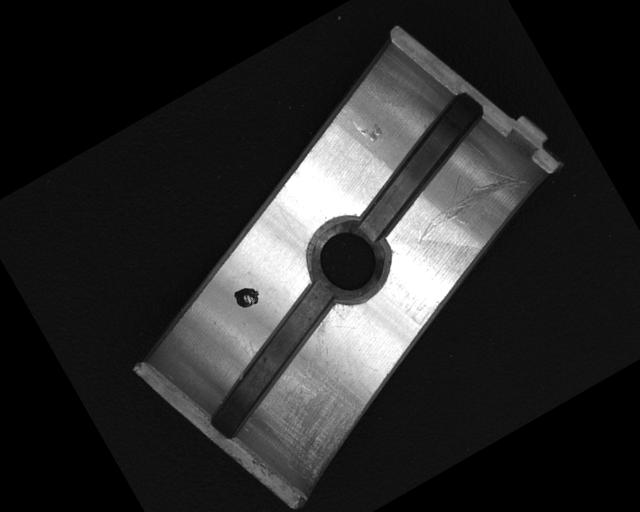blot: (230, 281, 264, 314)
bruise: (348, 107, 386, 148)
gap: (176, 277, 370, 444), (325, 87, 513, 245)
hole: (291, 201, 409, 320)
nick: (394, 143, 532, 250)
scratch: (233, 317, 398, 494)
